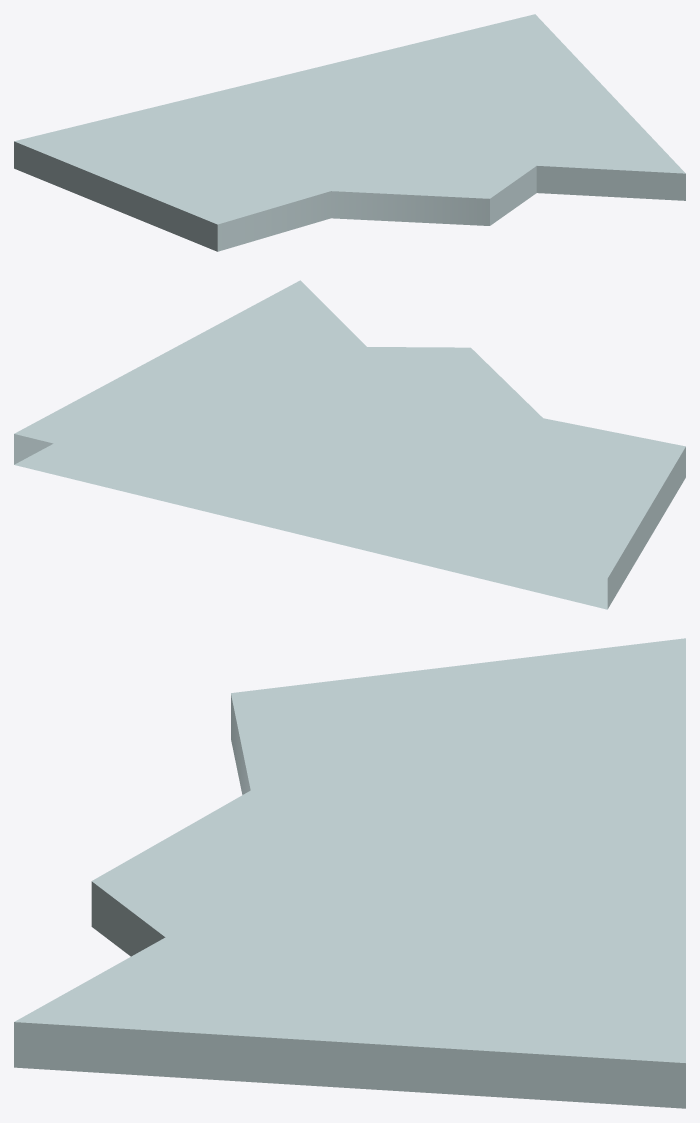
Rendered from Glass_1.glb.
3 renders of one model, top to bottom at view 1: azimuth 30°, elevation 25°; view 2: azimuth 150°, elevation 25°; view 3: azimuth 270°, elevation 25°, orthographic. The views are drawn at different scales.
Parts seen in each view (by area): view 1: Glass_1; view 2: Glass_1; view 3: Glass_1.
Part boxes in pixels (box(x1,y1,x2,y2)): Glass_1: box(14, 14, 685, 251); Glass_1: box(14, 280, 685, 609); Glass_1: box(14, 638, 685, 1108).
Size of the model in its own units: 2 by 0.1 by 1.34.
